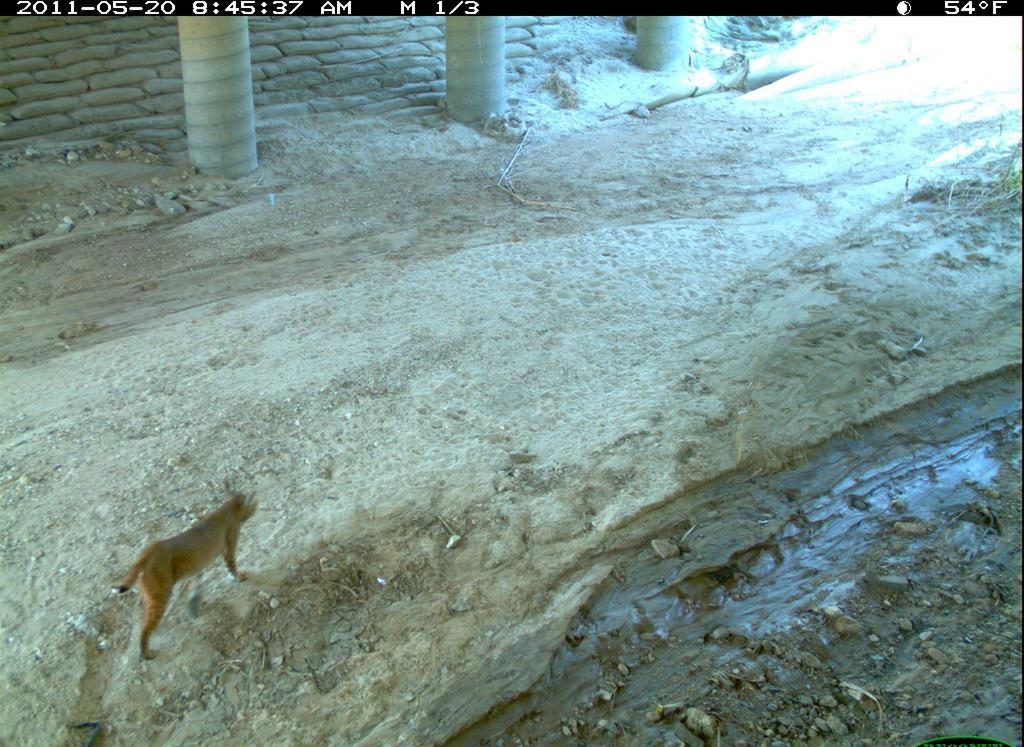bobcat: (107, 486, 263, 667)
